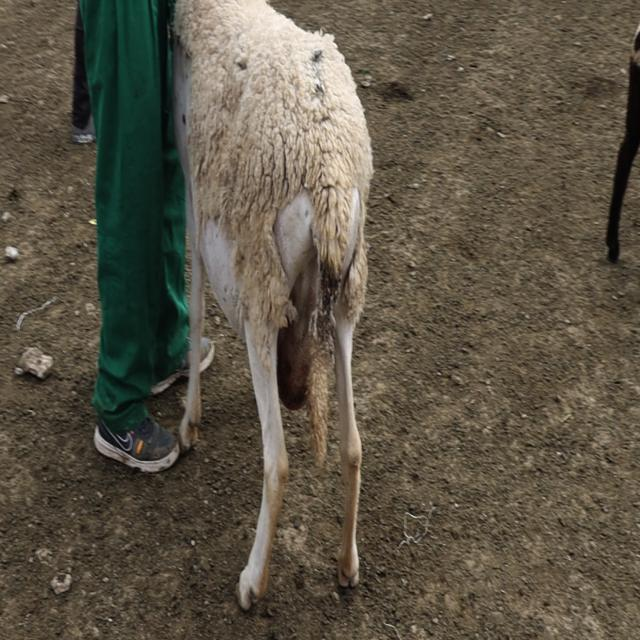Score_2: (170, 0, 373, 609)
